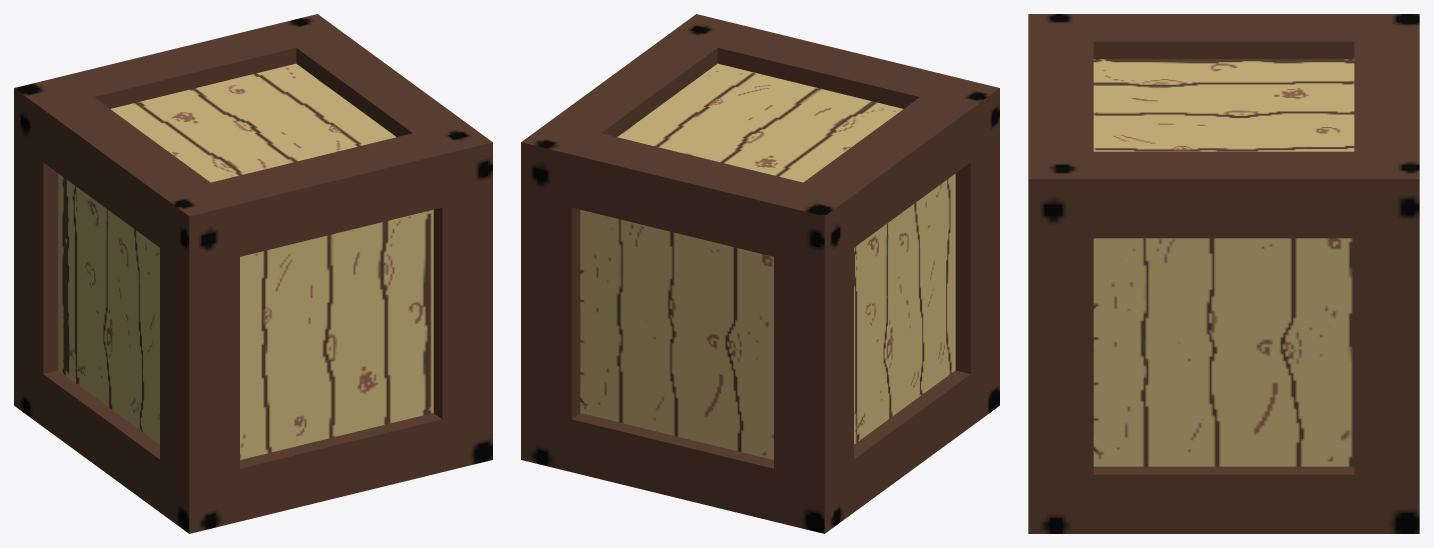
The picture shows the model from 3 angles, left to right: view 1: azimuth 30°, elevation 25°; view 2: azimuth 150°, elevation 25°; view 3: azimuth 270°, elevation 25°; orthographic projection. The views are drawn at different scales.
Parts seen in each view (by area): view 1: Cube; view 2: Cube; view 3: Cube.
Part boxes in pixels (x1,y1,x2,y2): Cube: (14, 14, 492, 533); Cube: (521, 14, 999, 533); Cube: (1028, 14, 1419, 533).
Size of the model in its own units: 200 by 200 by 200.
